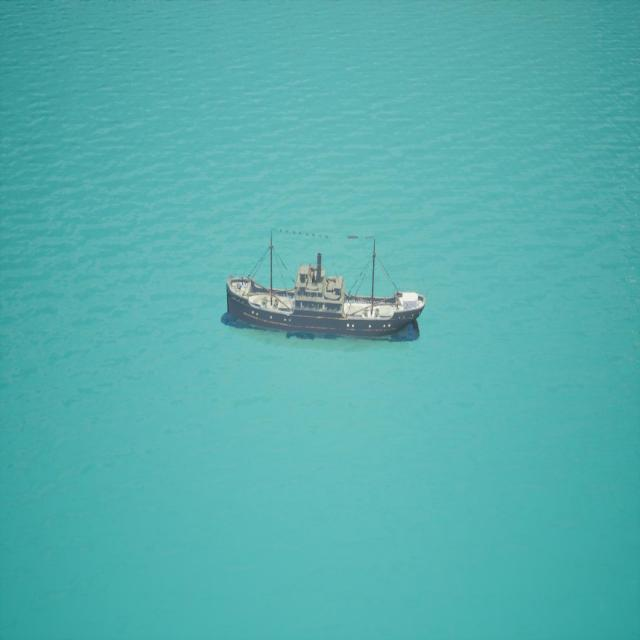fishing ship: (227, 232, 426, 340)
